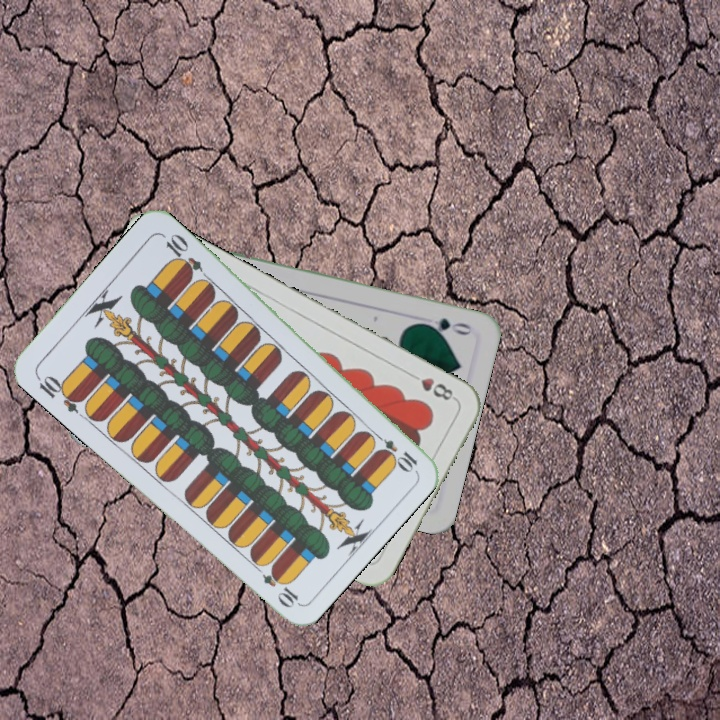E10: (32, 371, 86, 416), (368, 428, 420, 473)
GO: (416, 313, 475, 338)
H8: (404, 368, 459, 403)
